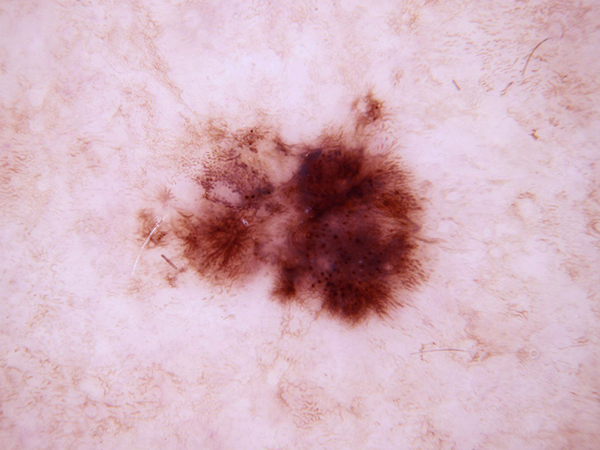Detected Lesion: (136, 104, 437, 329)
